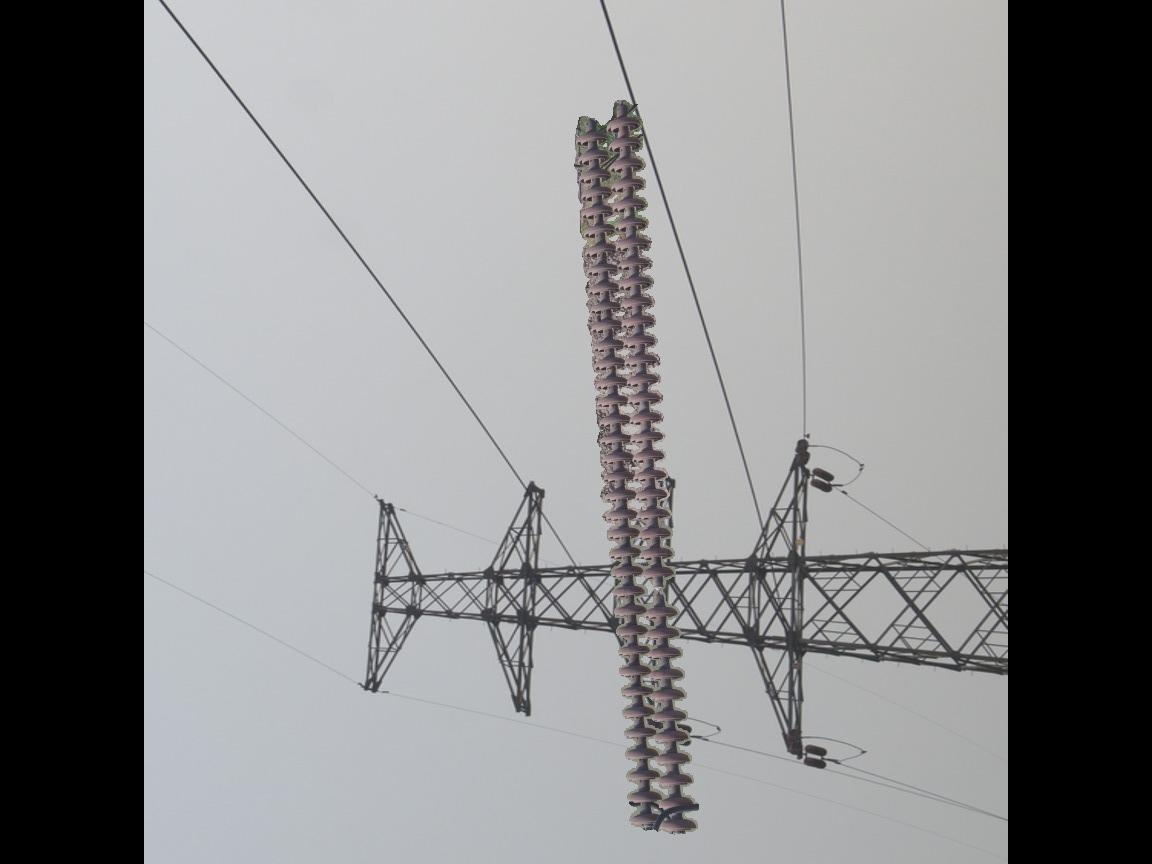insulator: (572, 106, 702, 841)
insulator_stringdrop: (638, 563, 683, 622)
